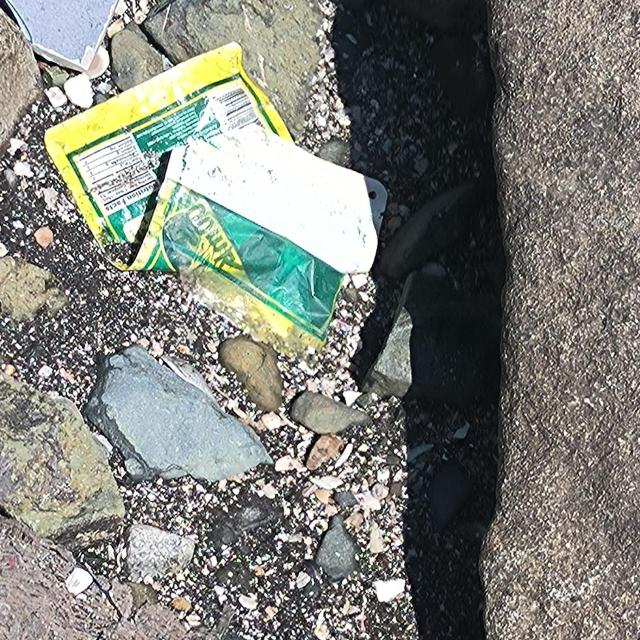plastic_waste: (44, 41, 391, 355)
